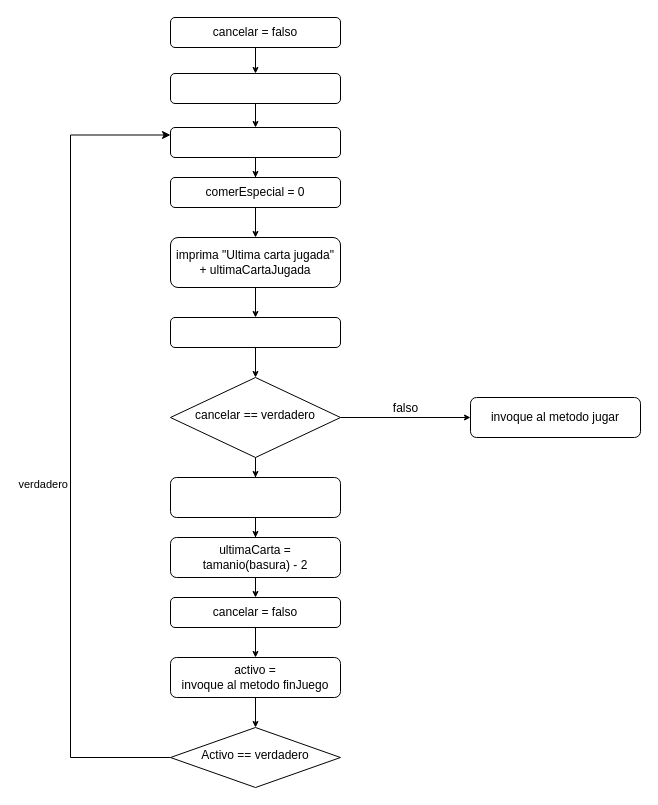
Some shapes in this 658 by 805 pixel diagram are drawn without their labels. The shapes that lost their labels are listed below. From the top down, each one's box as (x1, y1, x2, y2) in pixels, then its label:
(170, 72, 340, 104): ultimaCarta = 0
(170, 126, 340, 158): cartaEspecial = falso
(170, 316, 340, 348): cancelar = TEST
(170, 476, 340, 518): imprima nombreJugador1 + "tu turno fue cancelado"
